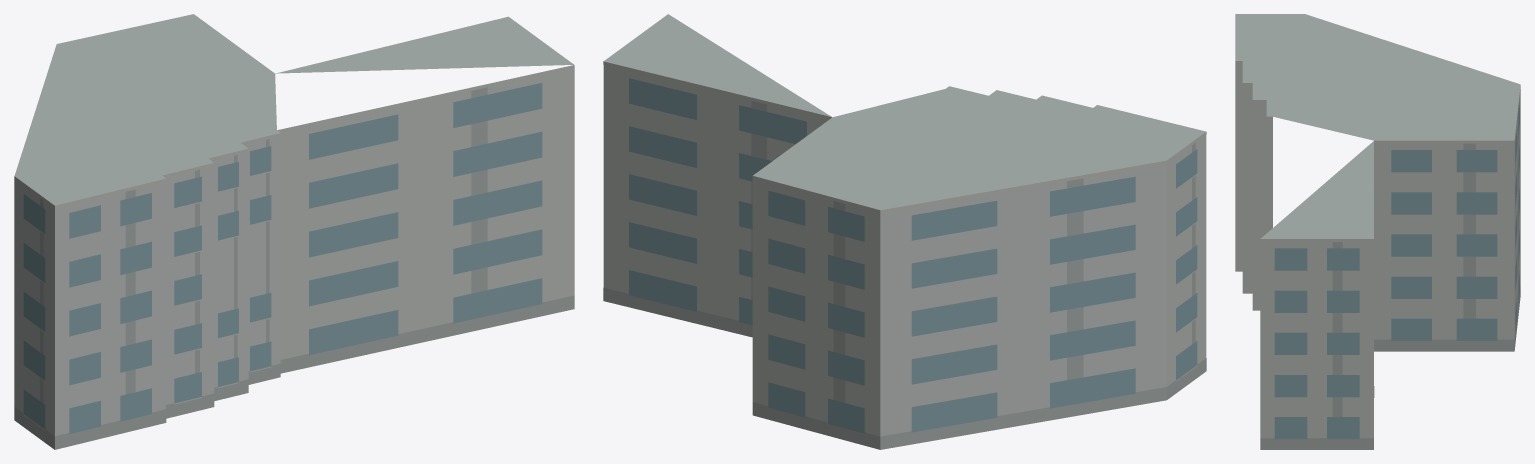
Rendered from survey-upis-32477056.glb.
The picture shows the model from 3 angles, left to right: view 1: azimuth 30°, elevation 25°; view 2: azimuth 150°, elevation 25°; view 3: azimuth 270°, elevation 25°; orthographic projection. The views are drawn at different scales.
Visible parts, largest first — view 1: survey-upis-32477056.tmp; view 2: survey-upis-32477056.tmp; view 3: survey-upis-32477056.tmp.
Part boxes in pixels (x1,y1,x2,y2): survey-upis-32477056.tmp: (14, 14, 574, 449); survey-upis-32477056.tmp: (603, 14, 1206, 449); survey-upis-32477056.tmp: (1235, 14, 1520, 449).
Bounding box in the file's own units: 40.3 × 17.6 × 21.59.
